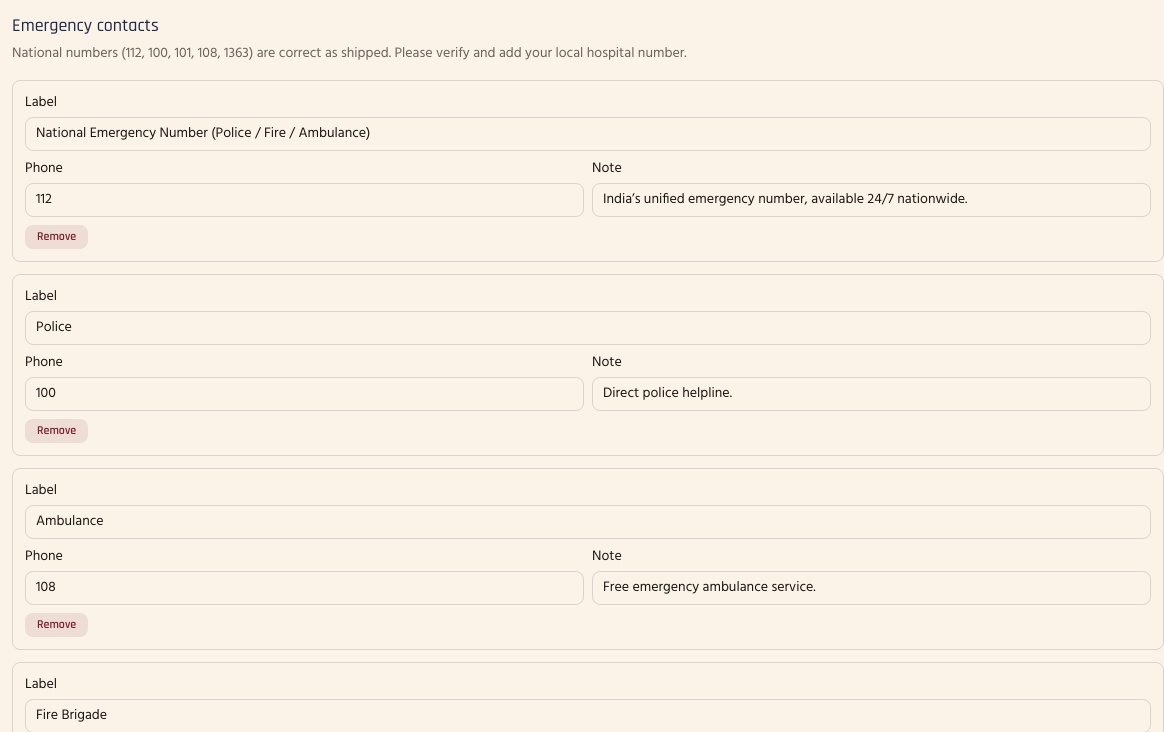
Test: ContactsEditor › removes a contact
Expected: the 1st field showing "112" is shown, 25,183 -> 584,217
Click the 1st button "Remove". click: (57, 237)
box: 25,225 -> 88,249
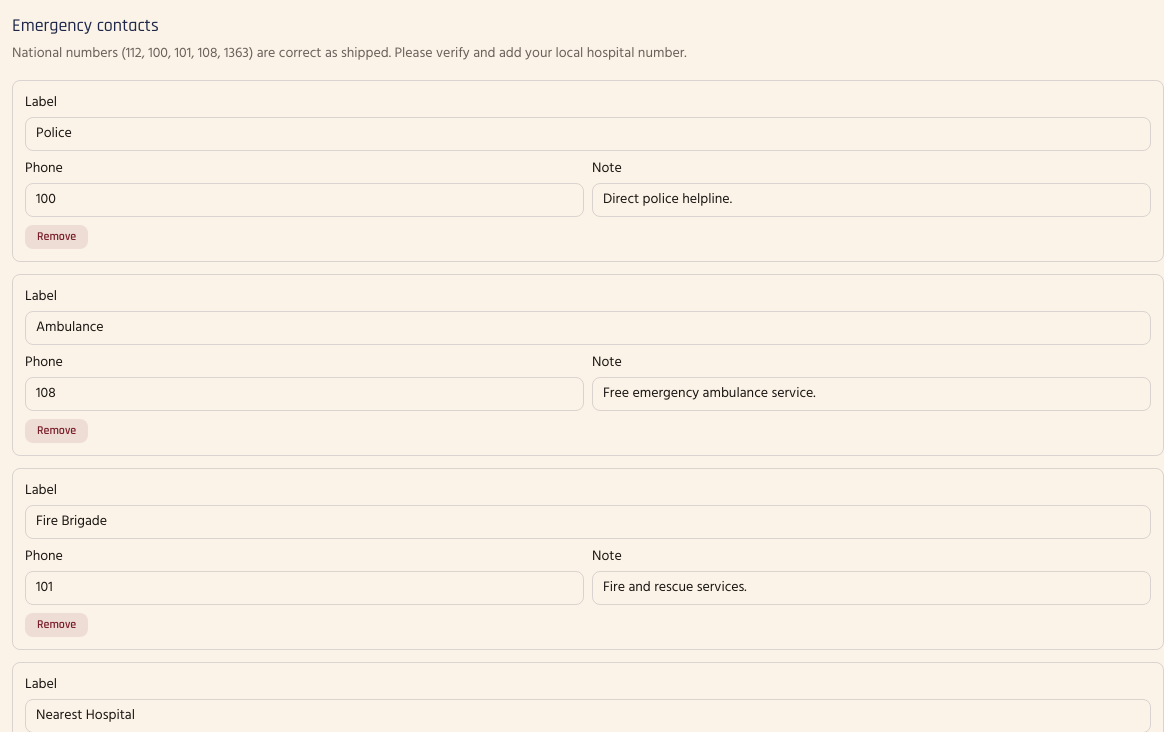
Expected: the number of buttons "Remove" is 5
